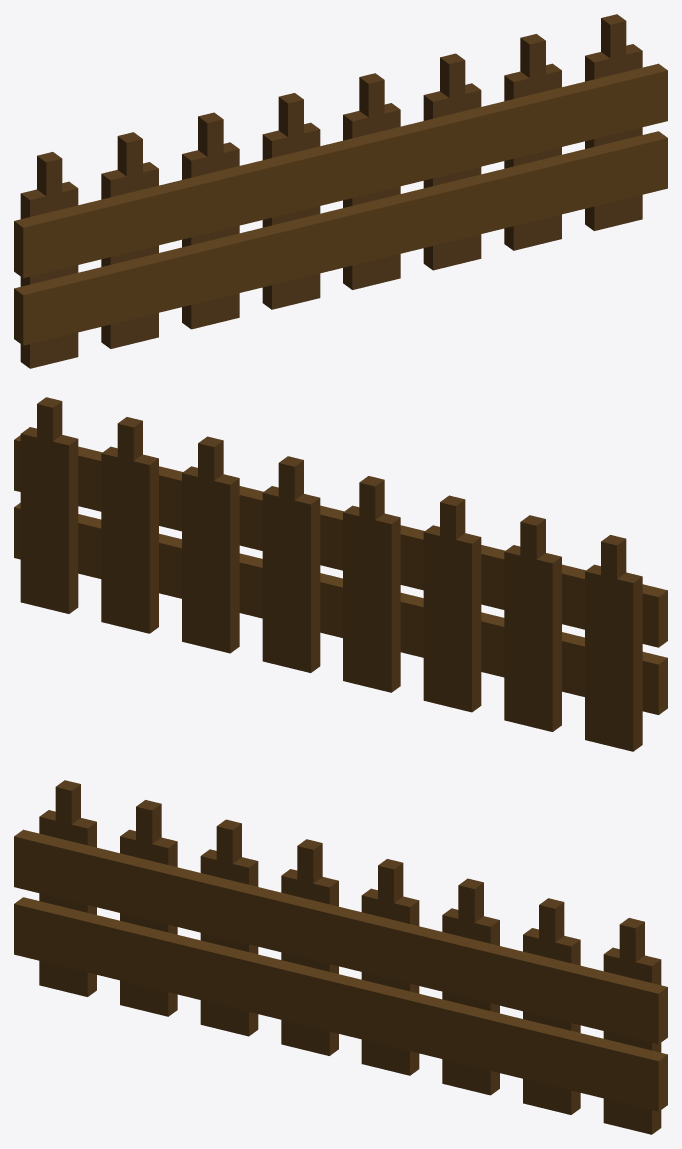
File: prop_zaun_1.obj
The picture shows the model from 3 angles, top to bottom: view 1: azimuth 30°, elevation 25°; view 2: azimuth 150°, elevation 25°; view 3: azimuth 330°, elevation 25°; orthographic projection.
Bounding box in the file's own units: 4 × 1.2 × 0.2.
1 material, 1 textured.
